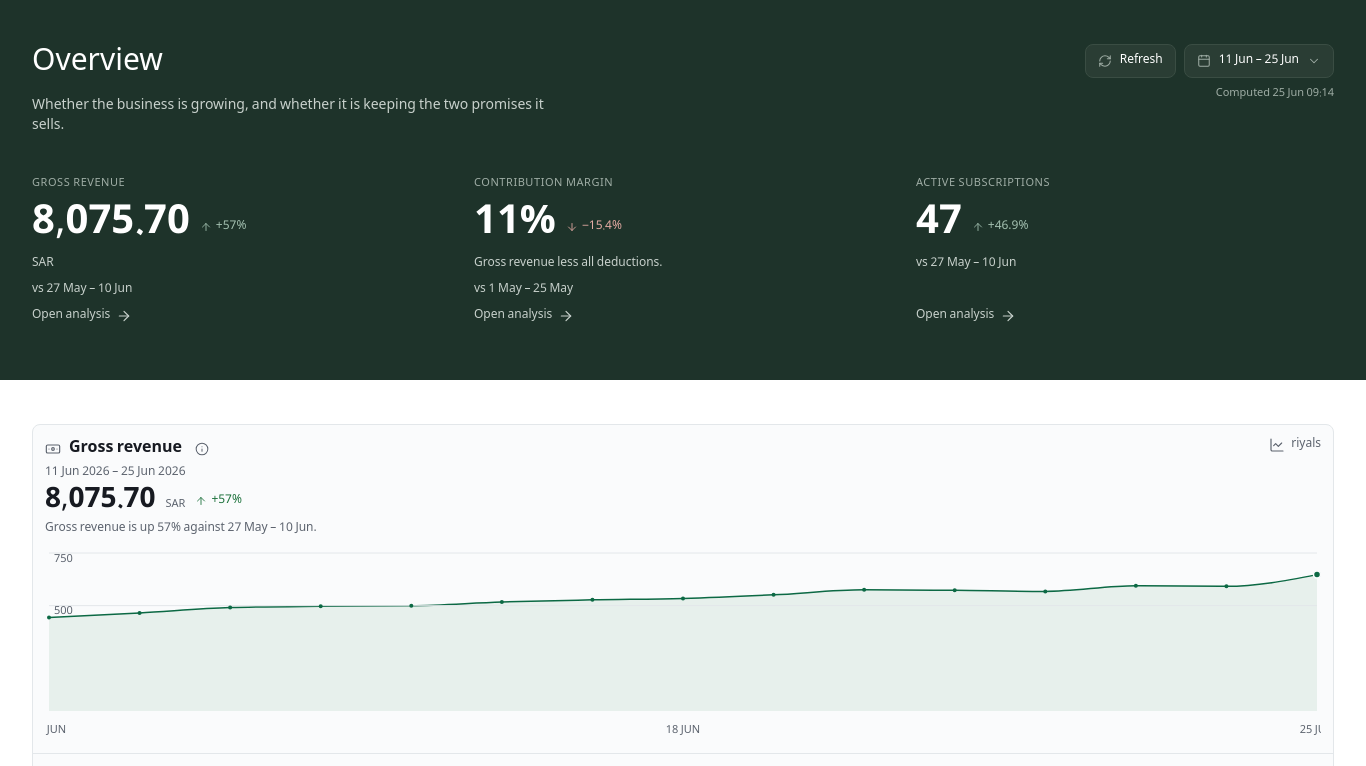
Scenario: T1.5 — a board re-reads, and its freshness moves with it › the Refresh control in the band re-reads and the printed asOf changes
Click the button "Refresh". click: (1130, 61)
box: left=1085, top=44, right=1176, bottom=78
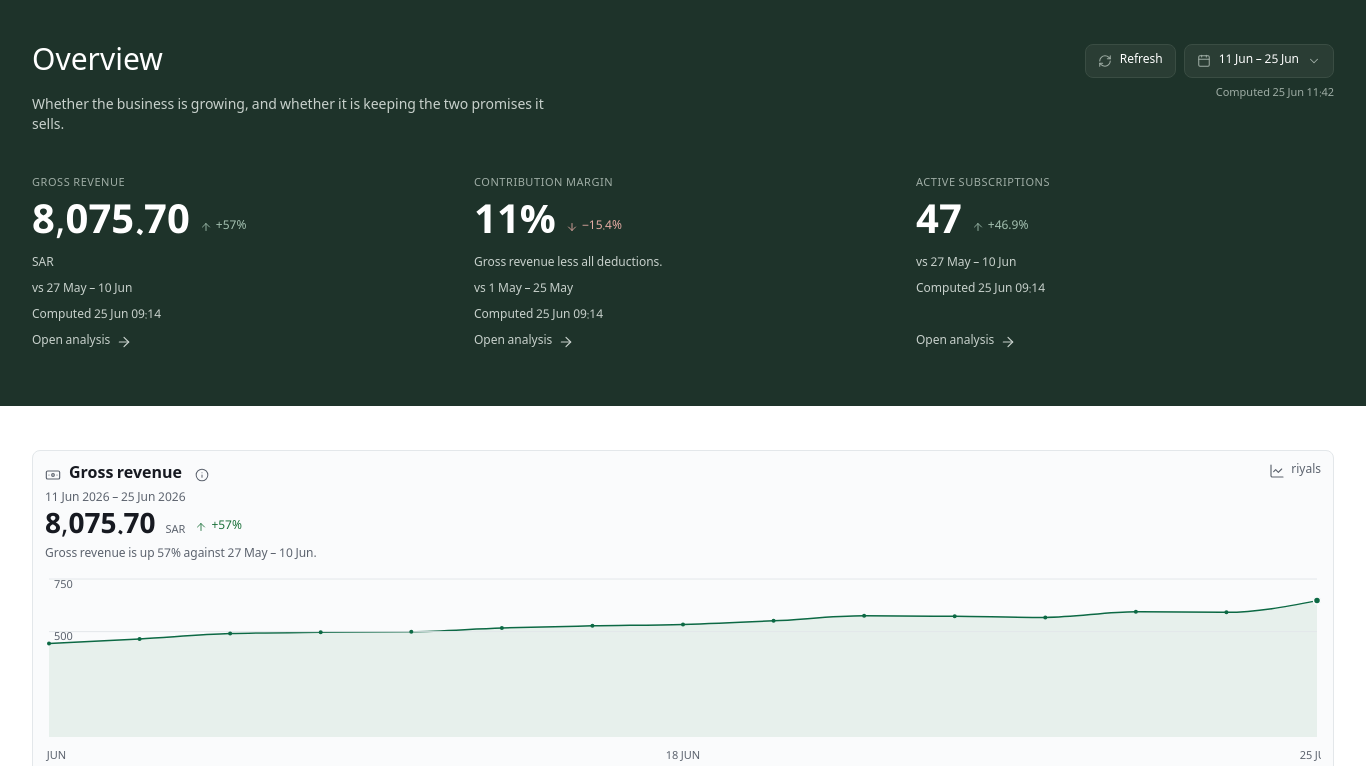
Expected: the text "Computed " does not show "Computed 25 Jun 09:14"
Result: the text "Computed 25 Jun 11:42" is shown at left=1216, top=84, right=1334, bottom=103
